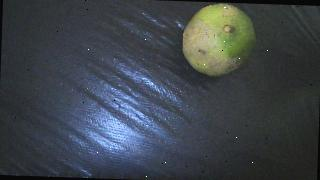DESECHO: (181, 2, 257, 77)
